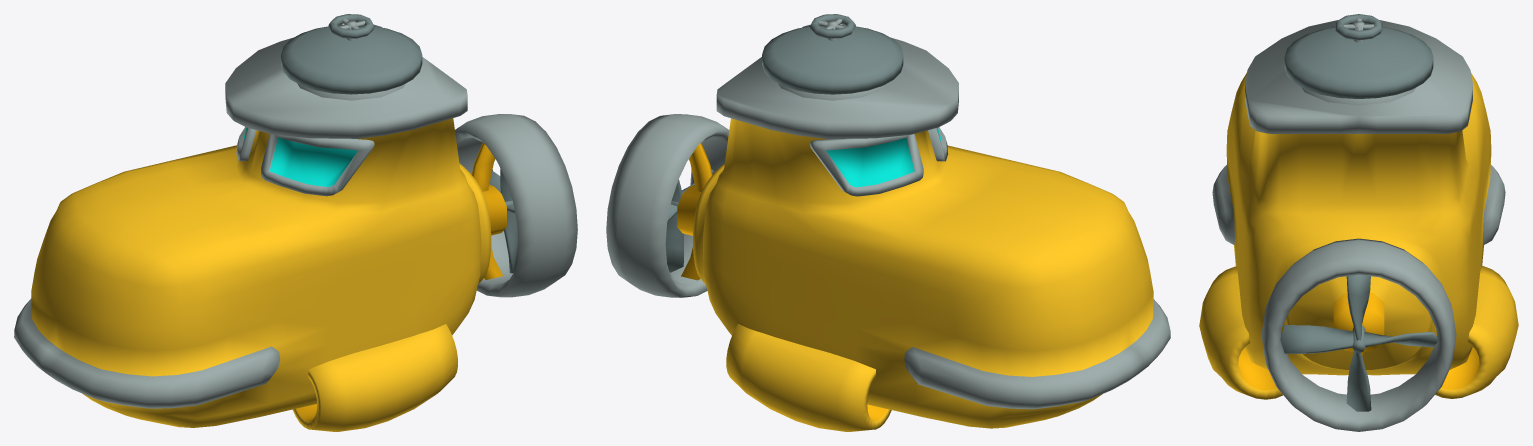
The model's file is Mini-Sub02.fbx.
3 renders of one model, left to right at view 1: azimuth 30°, elevation 25°; view 2: azimuth 150°, elevation 25°; view 3: azimuth 270°, elevation 25°, orthographic. The views are drawn at different scales.
Parts seen in each view (by area): view 1: MiniSub02; view 2: MiniSub02; view 3: MiniSub02.
Boxes of the visible parts, bbox=[...] form: MiniSub02: bbox=[14, 14, 577, 431]; MiniSub02: bbox=[606, 14, 1170, 431]; MiniSub02: bbox=[1199, 14, 1518, 431].
Size of the model in its own units: 2.81 by 1.91 by 1.5.
